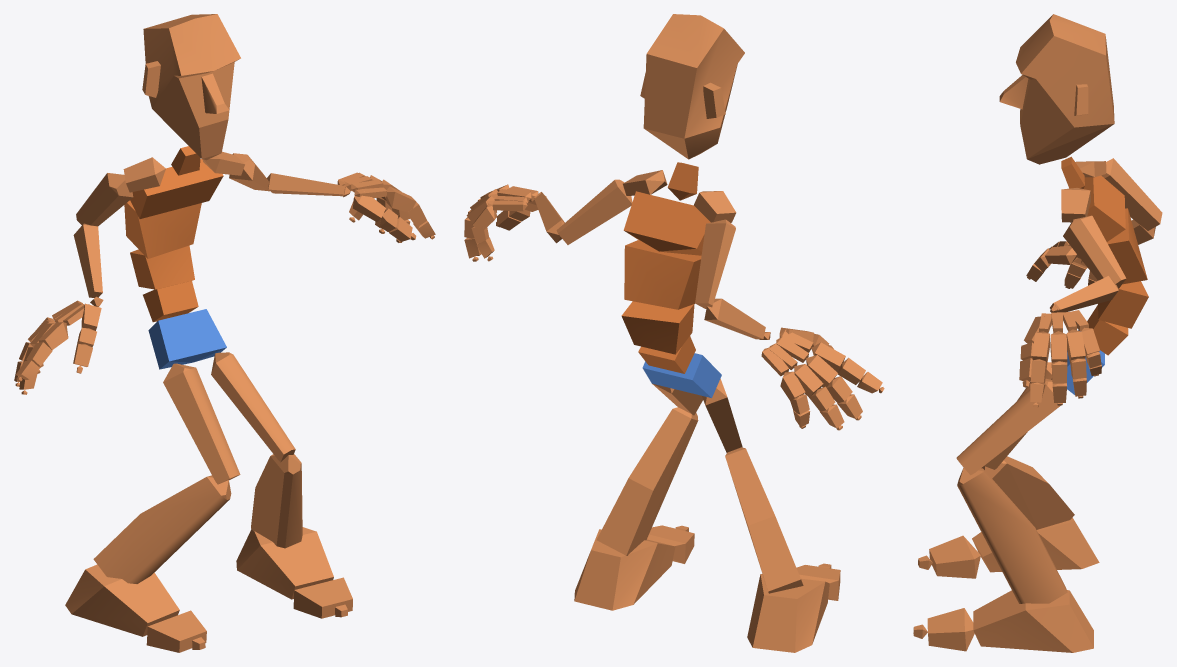
The model's file is prueba260.obj.
3 views of the same model, side by side, from view 1: azimuth 30°, elevation 25°; view 2: azimuth 150°, elevation 25°; view 3: azimuth 270°, elevation 25° (orthographic). The views are drawn at different scales.
Visible parts, largest first — view 1: BOPED_Head, BOPED_R_leg, BOPED_R_foot, BOPED_R_foot01, BOPED_L_leg, BOPED_R_legup, Bone01, BOPED_L_legup, Bone04, Bone05, Bone03, BOPED_R_arm_upper (+9 smaller); view 2: BOPED_Head, BOPED_L_leg, BOPED_R_foot01, BOPED_R_foot, BOPED_R_leg, Bone04, Bone05, Bone03, BOPED_R_arm_upper, BOPED_L_arm_upper, Bone01, BOPED_R_legup (+9 smaller); view 3: BOPED_Head, BOPED_L_leg, BOPED_R_foot01, BOPED_L_legup, BOPED_R_leg, BOPED_R_foot, BOPED_L_arm_upper, Bone05, BOPED_R_arm_upper, BOPED_R_foot_toe01, BOPED_R_foot_toe04, Bone03 (+11 smaller).
Part boxes in pixels (x1,y1,x2,y2): BOPED_Head: (142, 14, 240, 160); BOPED_R_leg: (93, 475, 231, 583); BOPED_R_foot: (65, 564, 179, 636); BOPED_R_foot01: (236, 527, 333, 599); BOPED_L_leg: (251, 454, 302, 548); BOPED_R_legup: (163, 363, 240, 484); Bone01: (148, 309, 226, 369); BOPED_L_legup: (211, 352, 295, 462); Bone04: (124, 200, 201, 258); Bone05: (130, 159, 223, 218); Bone03: (130, 245, 194, 289); BOPED_R_arm_upper: (76, 173, 133, 226); BOPED_Head: (640, 14, 744, 159); BOPED_L_leg: (596, 407, 698, 555); BOPED_R_foot01: (574, 529, 675, 610); BOPED_R_foot: (747, 574, 829, 652); BOPED_R_leg: (725, 447, 803, 593); Bone04: (624, 240, 701, 309); Bone05: (623, 191, 710, 255); Bone03: (621, 301, 694, 354); BOPED_R_arm_upper: (695, 219, 735, 308); BOPED_L_arm_upper: (556, 179, 632, 244); Bone01: (642, 353, 721, 397); BOPED_R_legup: (702, 379, 742, 452); BOPED_Head: (999, 14, 1114, 164); BOPED_L_leg: (957, 467, 1067, 603); BOPED_R_foot01: (973, 590, 1093, 652); BOPED_L_legup: (956, 378, 1062, 475); BOPED_R_leg: (981, 456, 1074, 529); BOPED_R_foot: (972, 517, 1099, 572); BOPED_L_arm_upper: (1063, 215, 1126, 288); Bone05: (1083, 175, 1125, 241); BOPED_R_arm_upper: (1101, 158, 1162, 230); BOPED_R_foot_toe01: (929, 535, 980, 578); BOPED_R_foot_toe04: (927, 608, 974, 651); Bone03: (1098, 281, 1148, 328).
Bounding box in the file's own units: 130 × 175 × 68.06.
